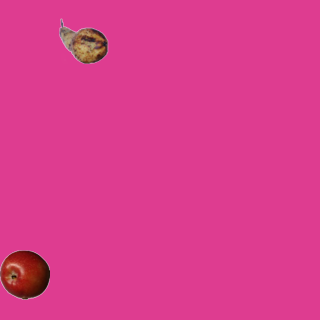Apple Braeburn: (0, 249, 49, 299)
Pear Abate: (58, 16, 108, 66)
